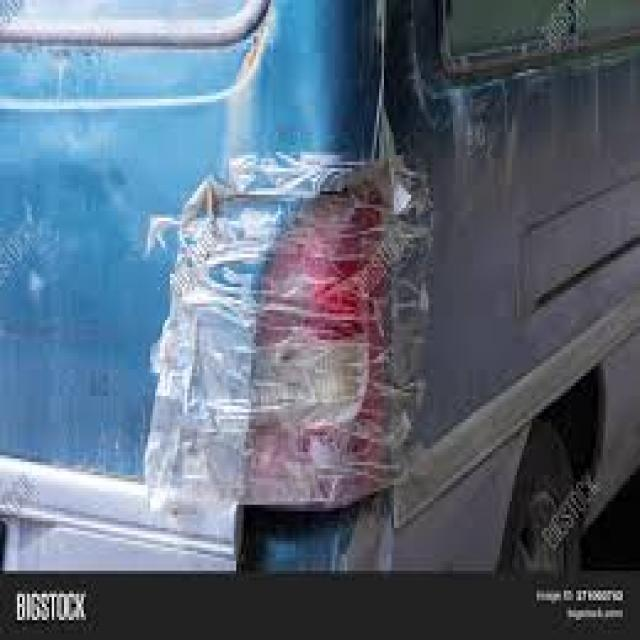damaged-tail-light: (246, 186, 398, 521)
